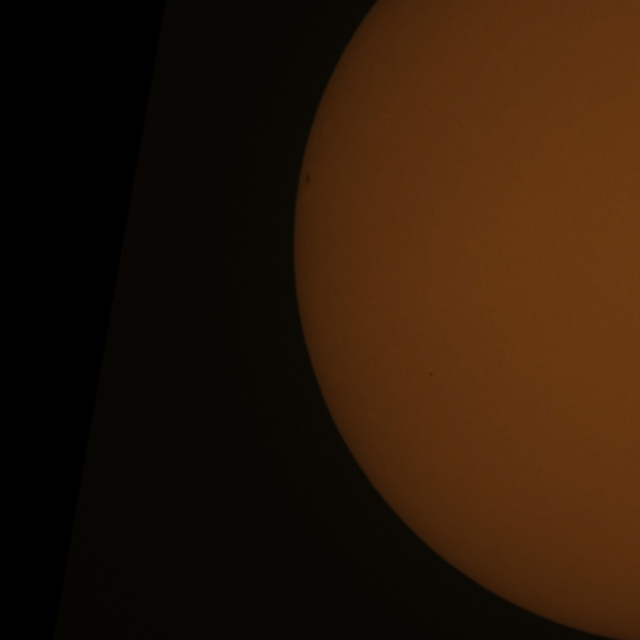sunspot: (303, 172, 312, 186), (428, 371, 434, 378)
